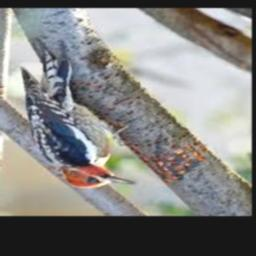Woodpecker: (21, 39, 137, 189)
